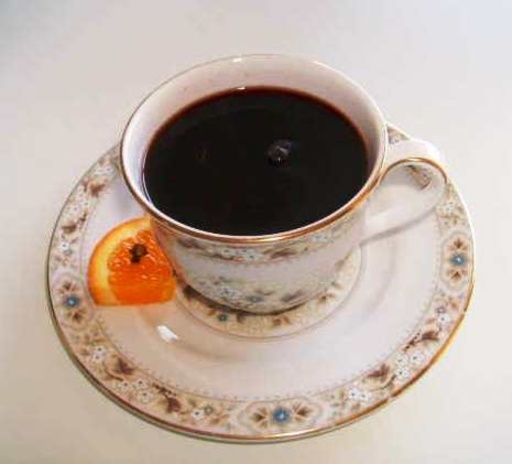background: (113, 60, 295, 170), (68, 67, 140, 221)
